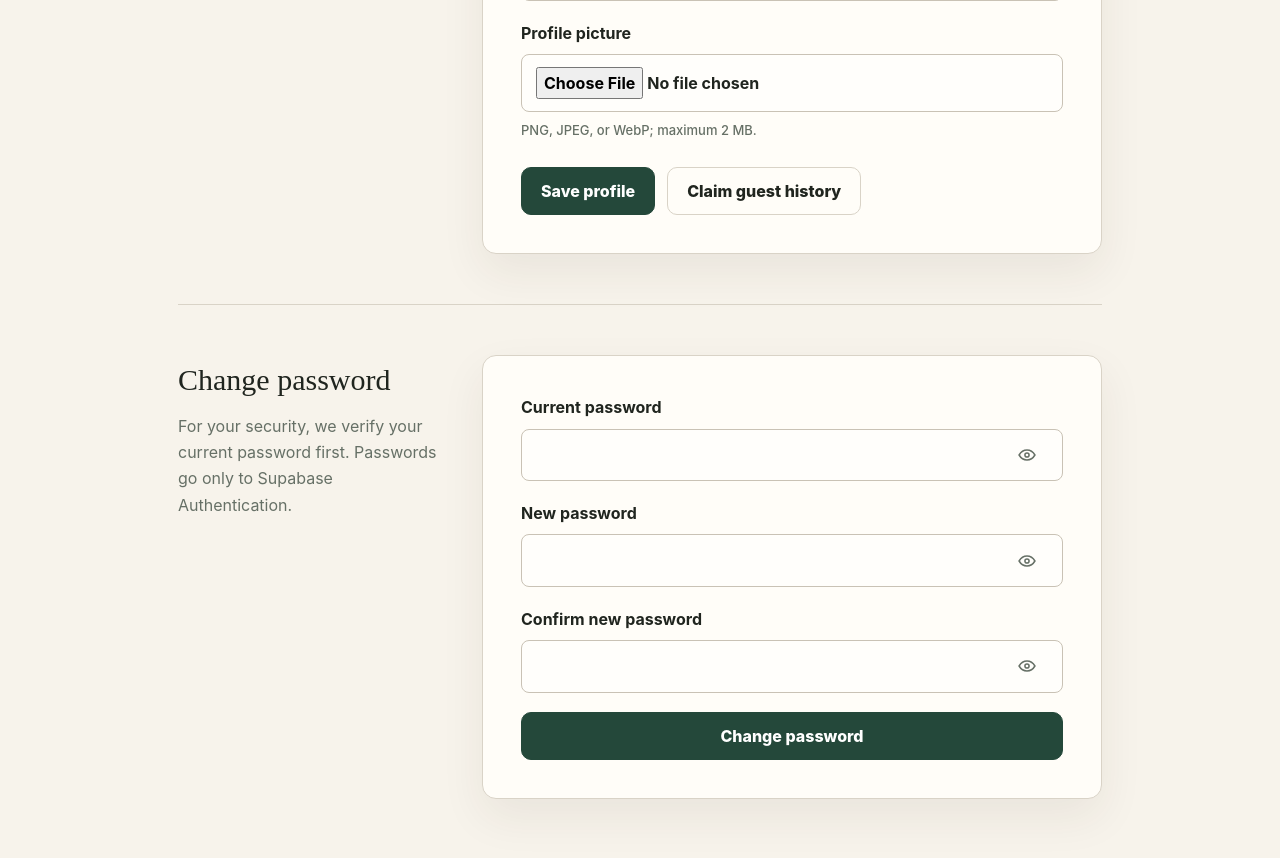
Test case: profile › validates matching passwords before reauthentication
(page scrolled)
In the password field labelled "Current password": (792, 455) [521,428,1063,481], type "old-password"
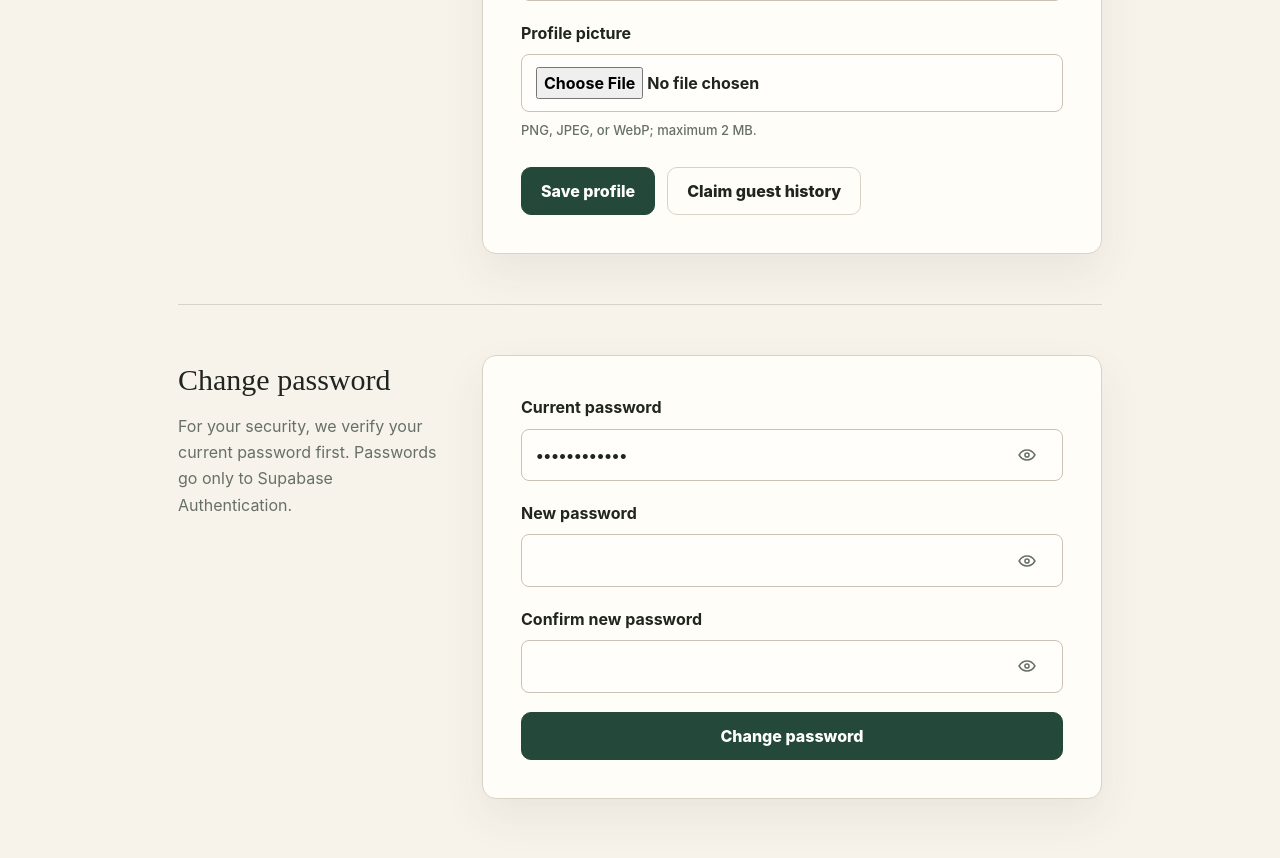
In the password field labelled "New password": (792, 560) [521,534,1063,587], type "new-password"
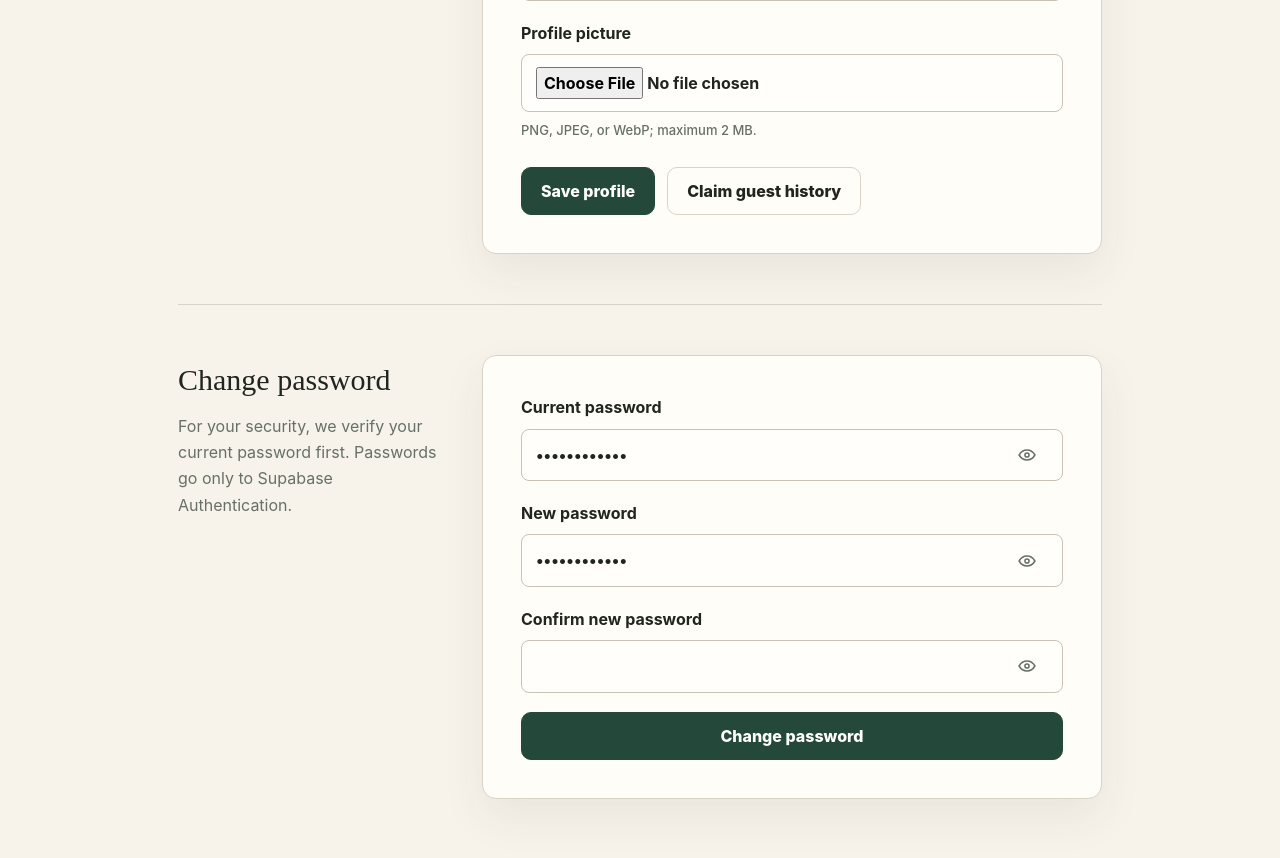
In the password field labelled "Confirm new password": (792, 666) [521,640,1063,692], type "different"
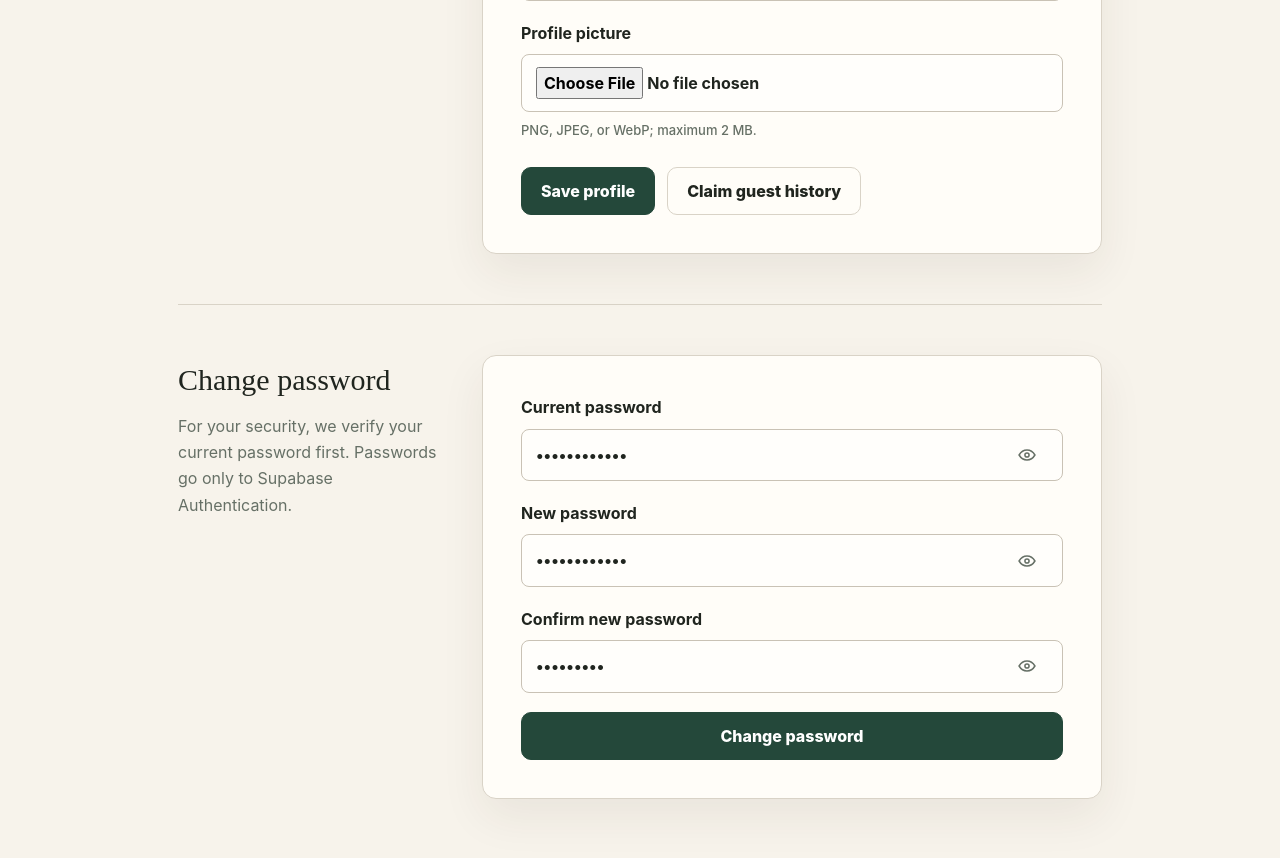
Click the button "Change password": click(792, 736) [521,712,1063,760]
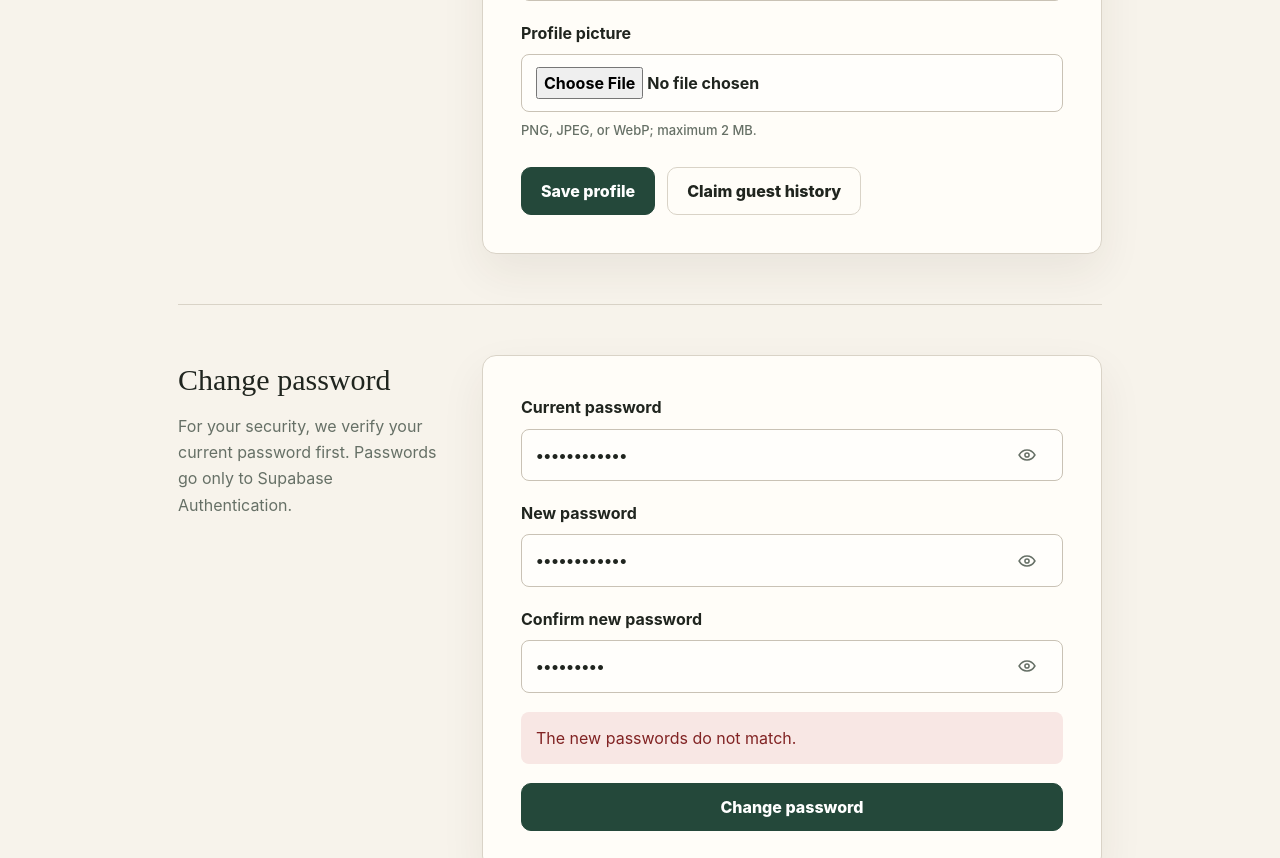
expect the message shows "do not match": met, box [536,728,796,748]
